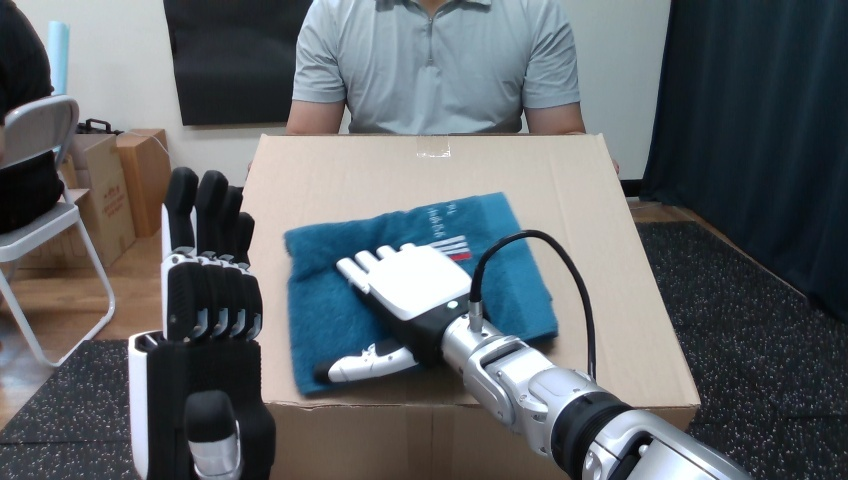left robot hand: (317, 230, 749, 479), (129, 168, 274, 478), (481, 236, 588, 373)
